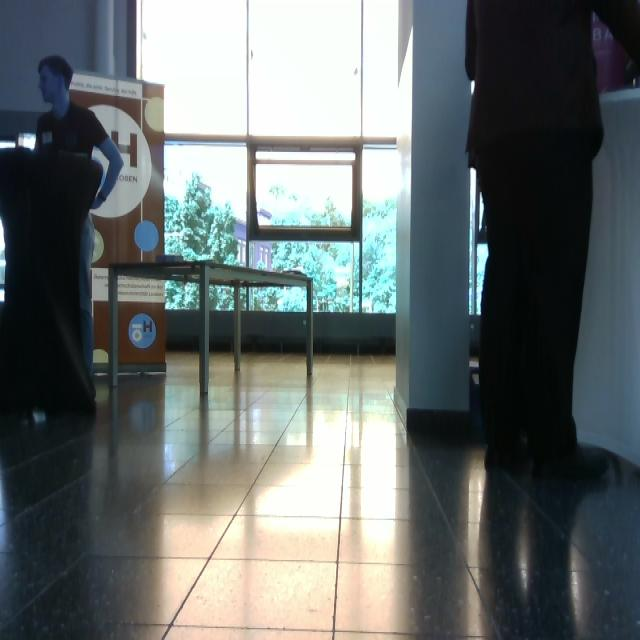light bulb: (134, 220, 160, 252), (92, 228, 105, 264), (18, 133, 37, 150), (258, 208, 272, 220)
person: (465, 1, 640, 480), (33, 54, 125, 400)
pillar: (396, 1, 473, 422)
table: (106, 257, 317, 400)
tiled floor: (2, 349, 639, 638)
window: (135, 1, 402, 318)
